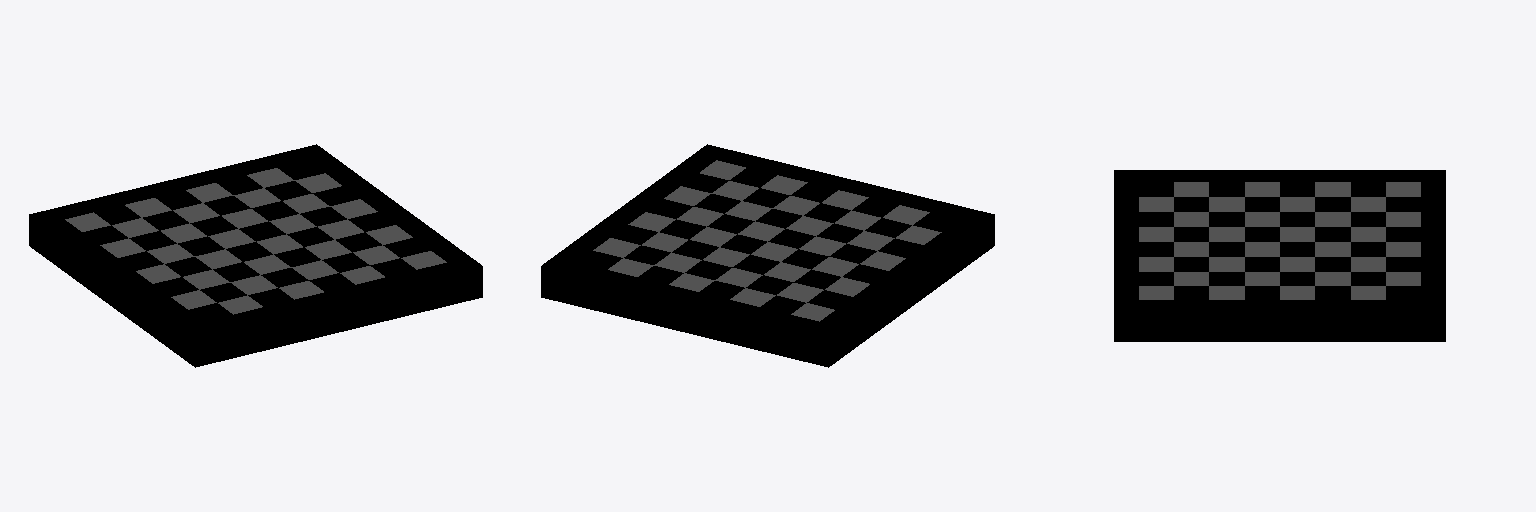
File: chessboard.obj
The picture shows the model from 3 angles: view 1: azimuth 30°, elevation 25°; view 2: azimuth 150°, elevation 25°; view 3: azimuth 270°, elevation 25°; orthographic projection.
Visible parts, largest first — view 1: Cube_Cube.001; view 2: Cube_Cube.001; view 3: Cube_Cube.001.
Boxes of the visible parts, x1=… form: Cube_Cube.001: x1=29, y1=144, x2=482, y2=367; Cube_Cube.001: x1=541, y1=144, x2=994, y2=367; Cube_Cube.001: x1=1114, y1=170, x2=1445, y2=341.
Size of the model in its own units: 41.24 by 4.33 by 41.24.